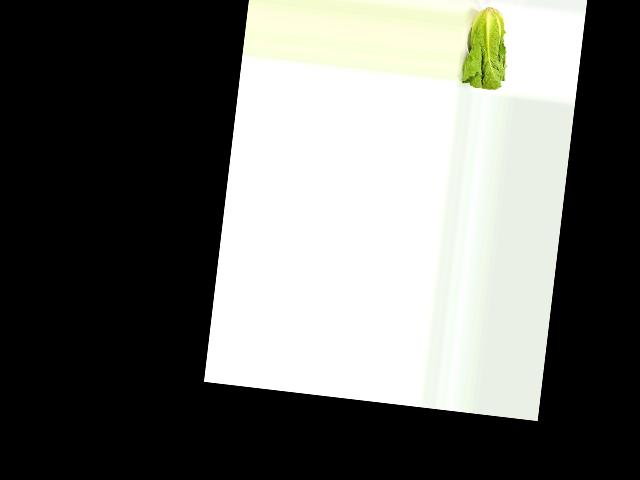lettuce: (459, 4, 514, 91)
